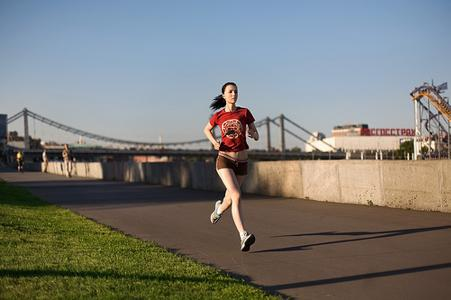person: (204, 82, 259, 255)
